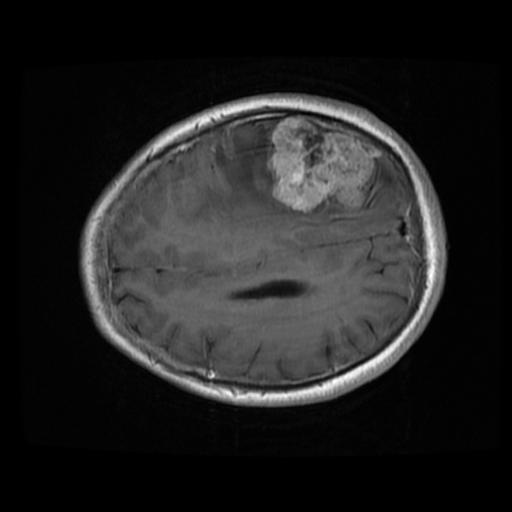meningioma: (269, 116, 380, 213)
